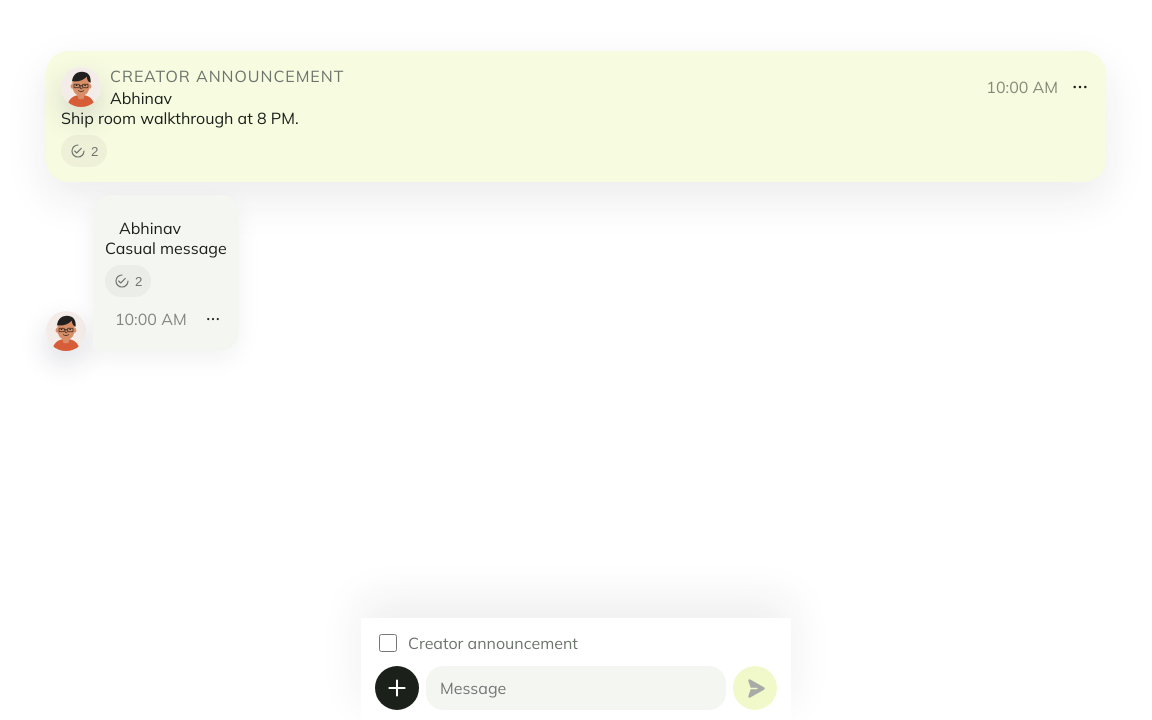
Scenario: Pod room › lets the creator pin announcements and hide ordinary chat
Click the 1st button named "More actions for Abhinav": (1080, 87) [1058,65,1102,109]
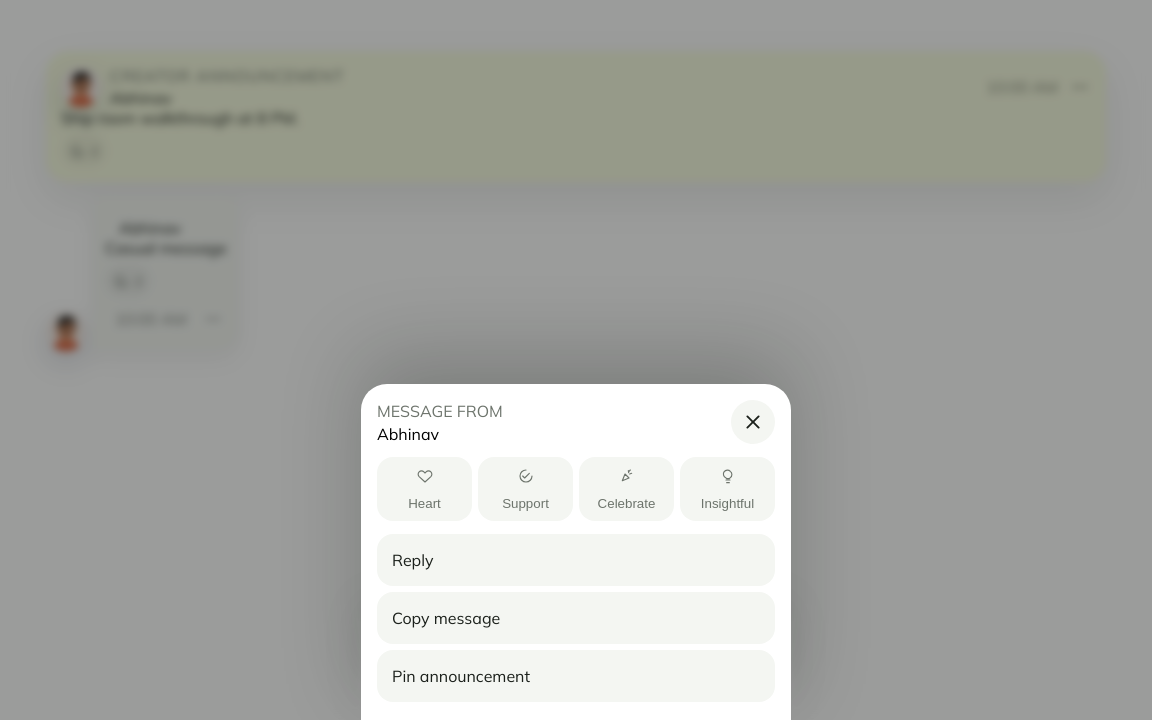
Click the button "Pin announcement": (461, 676) [377,650,775,702]
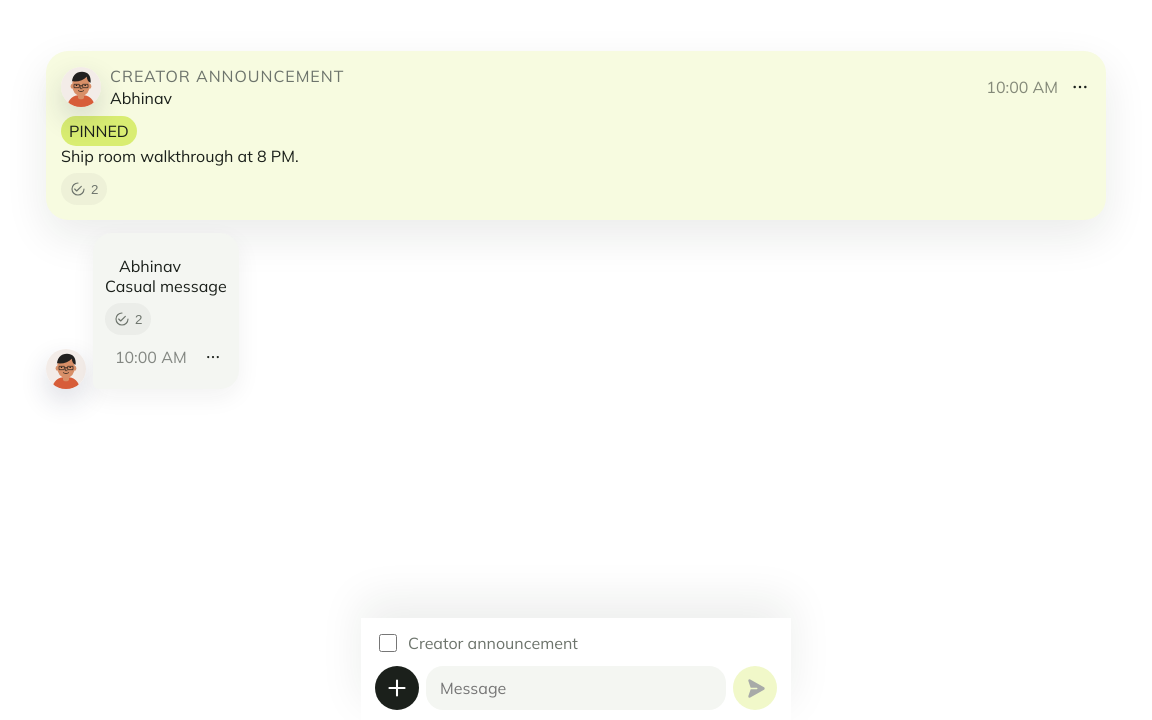
Result: the text "Pinned" is shown at [61,116,137,146]
Click the button named "More actions for Abhinav" below "Casual message": (213, 357) [191,335,235,379]
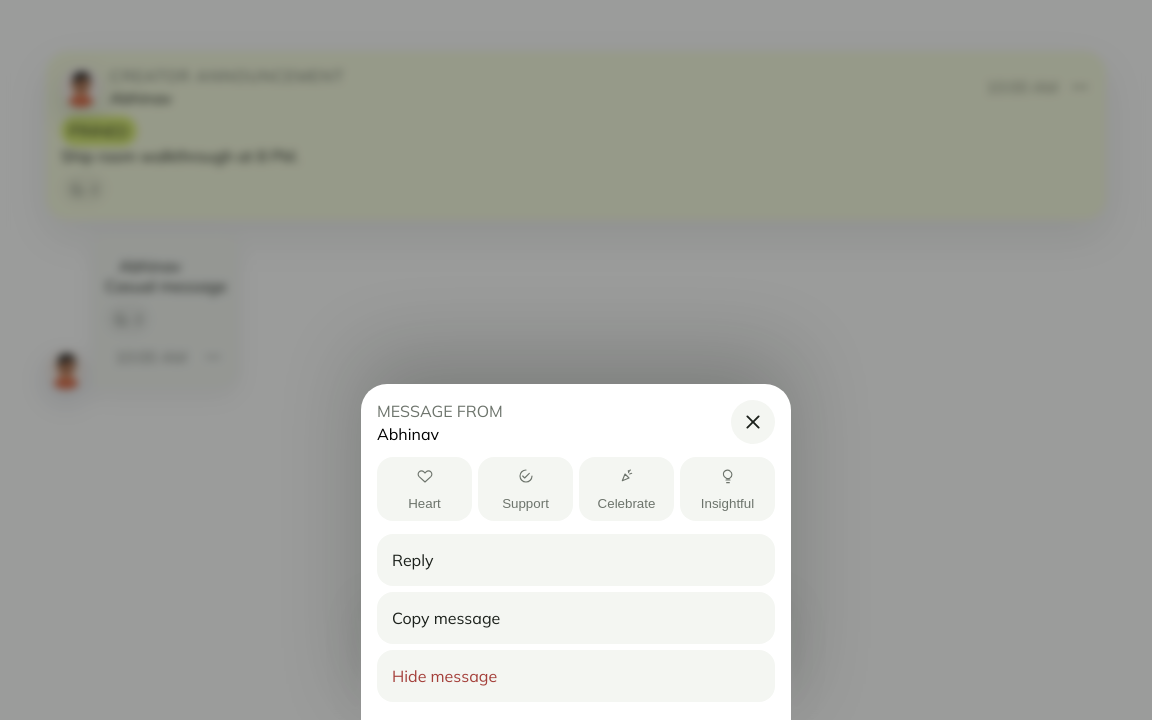
Click the button "Hide message": (445, 676) [377,650,775,702]
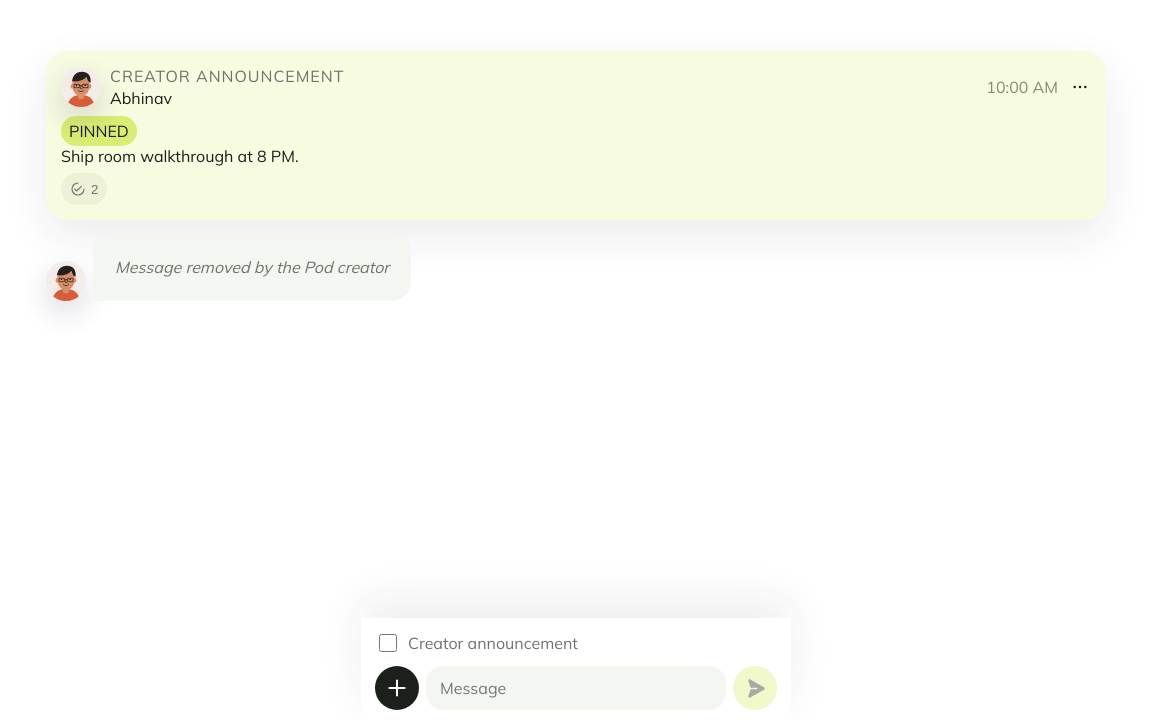
Result: the text "Message removed by the Pod creator" is shown at [115,257,389,277]
